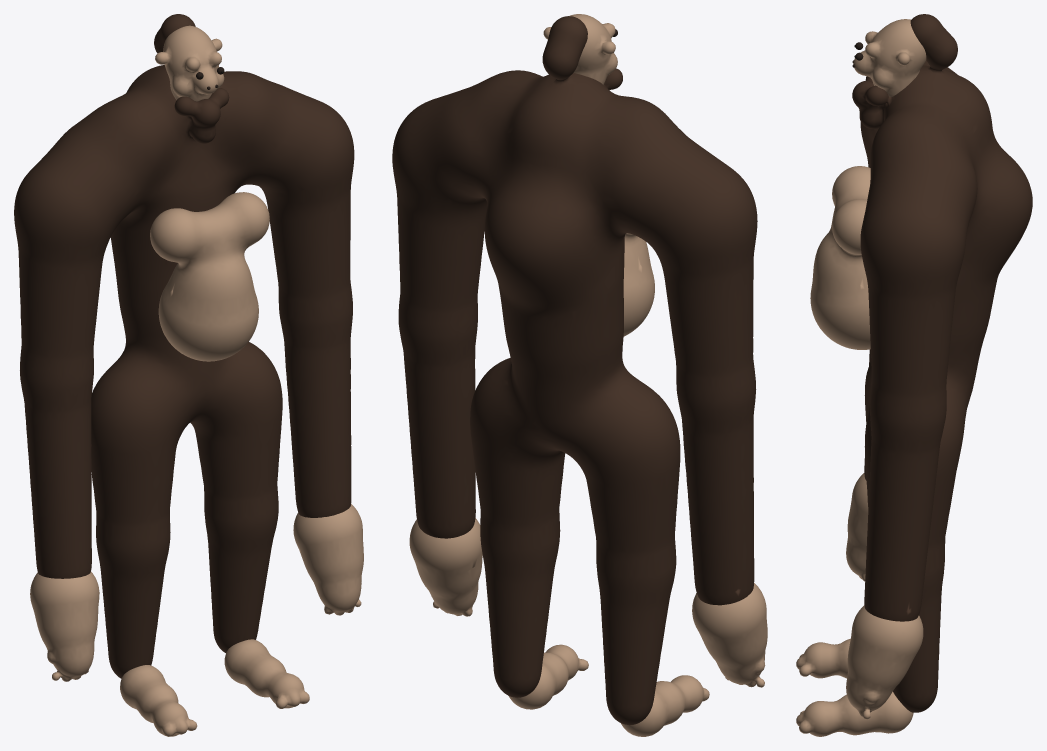
Rendered from beast-titan.glb.
3 views of the same model, side by side, from view 1: azimuth 30°, elevation 25°; view 2: azimuth 150°, elevation 25°; view 3: azimuth 270°, elevation 25° (orthographic). The views are drawn at different scales.
Parts seen in each view (by area): view 1: Fur.001, Skin.001; view 2: Fur.001, Skin.001; view 3: Fur.001, Skin.001.
Part boxes in pixels (<box>): Fur.001: <box>14,14,354,678</box>; Skin.001: <box>30,25,363,736</box>; Fur.001: <box>392,16,757,725</box>; Skin.001: <box>409,14,767,736</box>; Fur.001: <box>852,14,1032,712</box>; Skin.001: <box>796,19,926,736</box>.
Bounding box in the file's own units: 8.44 × 16.49 × 5.12.
